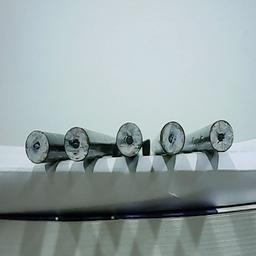pen: (63, 125, 91, 162), (159, 120, 187, 156), (116, 121, 144, 157), (209, 119, 236, 152), (25, 130, 49, 165)
